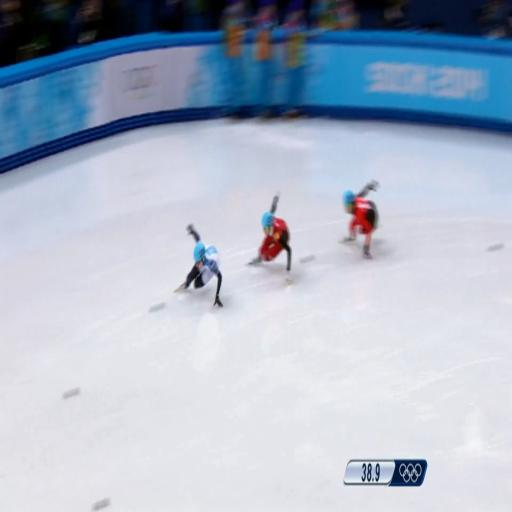Skater: (175, 224, 222, 306), (249, 194, 291, 272), (340, 181, 379, 258)
